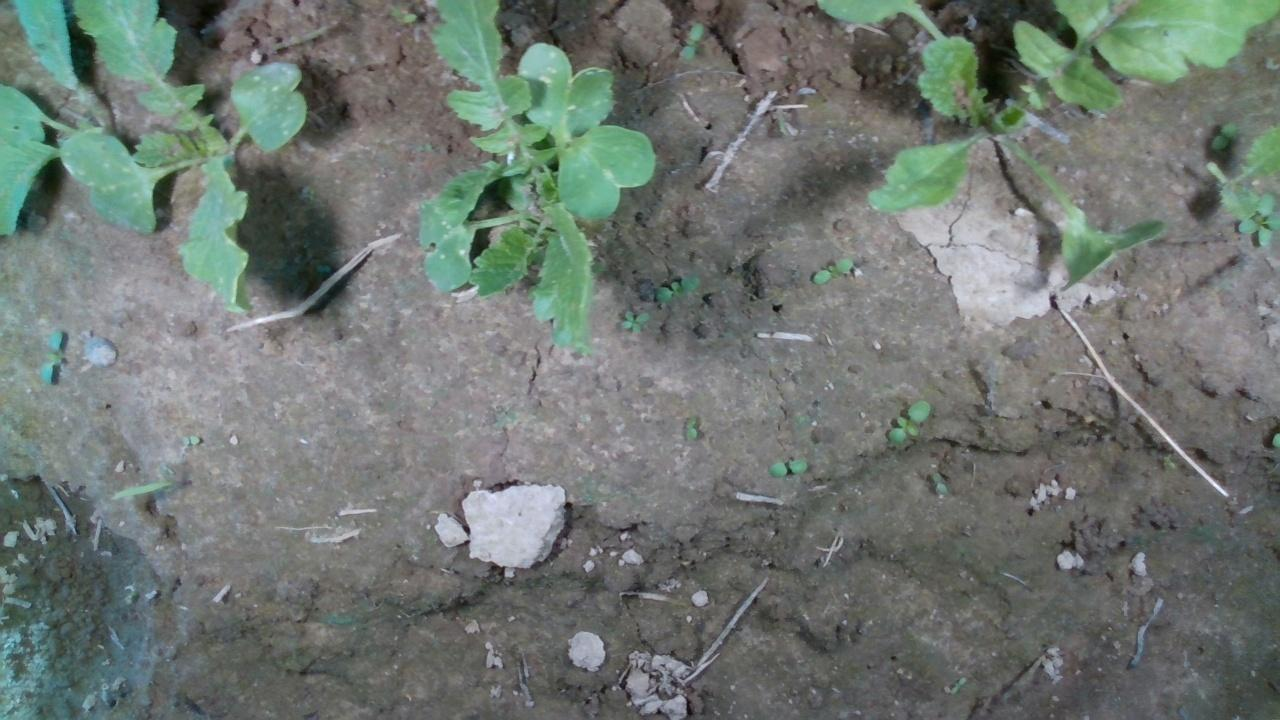weed: (886, 398, 930, 443), (38, 328, 62, 385), (654, 273, 701, 301), (811, 255, 853, 284), (765, 457, 808, 478), (617, 310, 650, 334), (931, 468, 948, 496), (682, 413, 697, 439), (179, 434, 199, 446)
